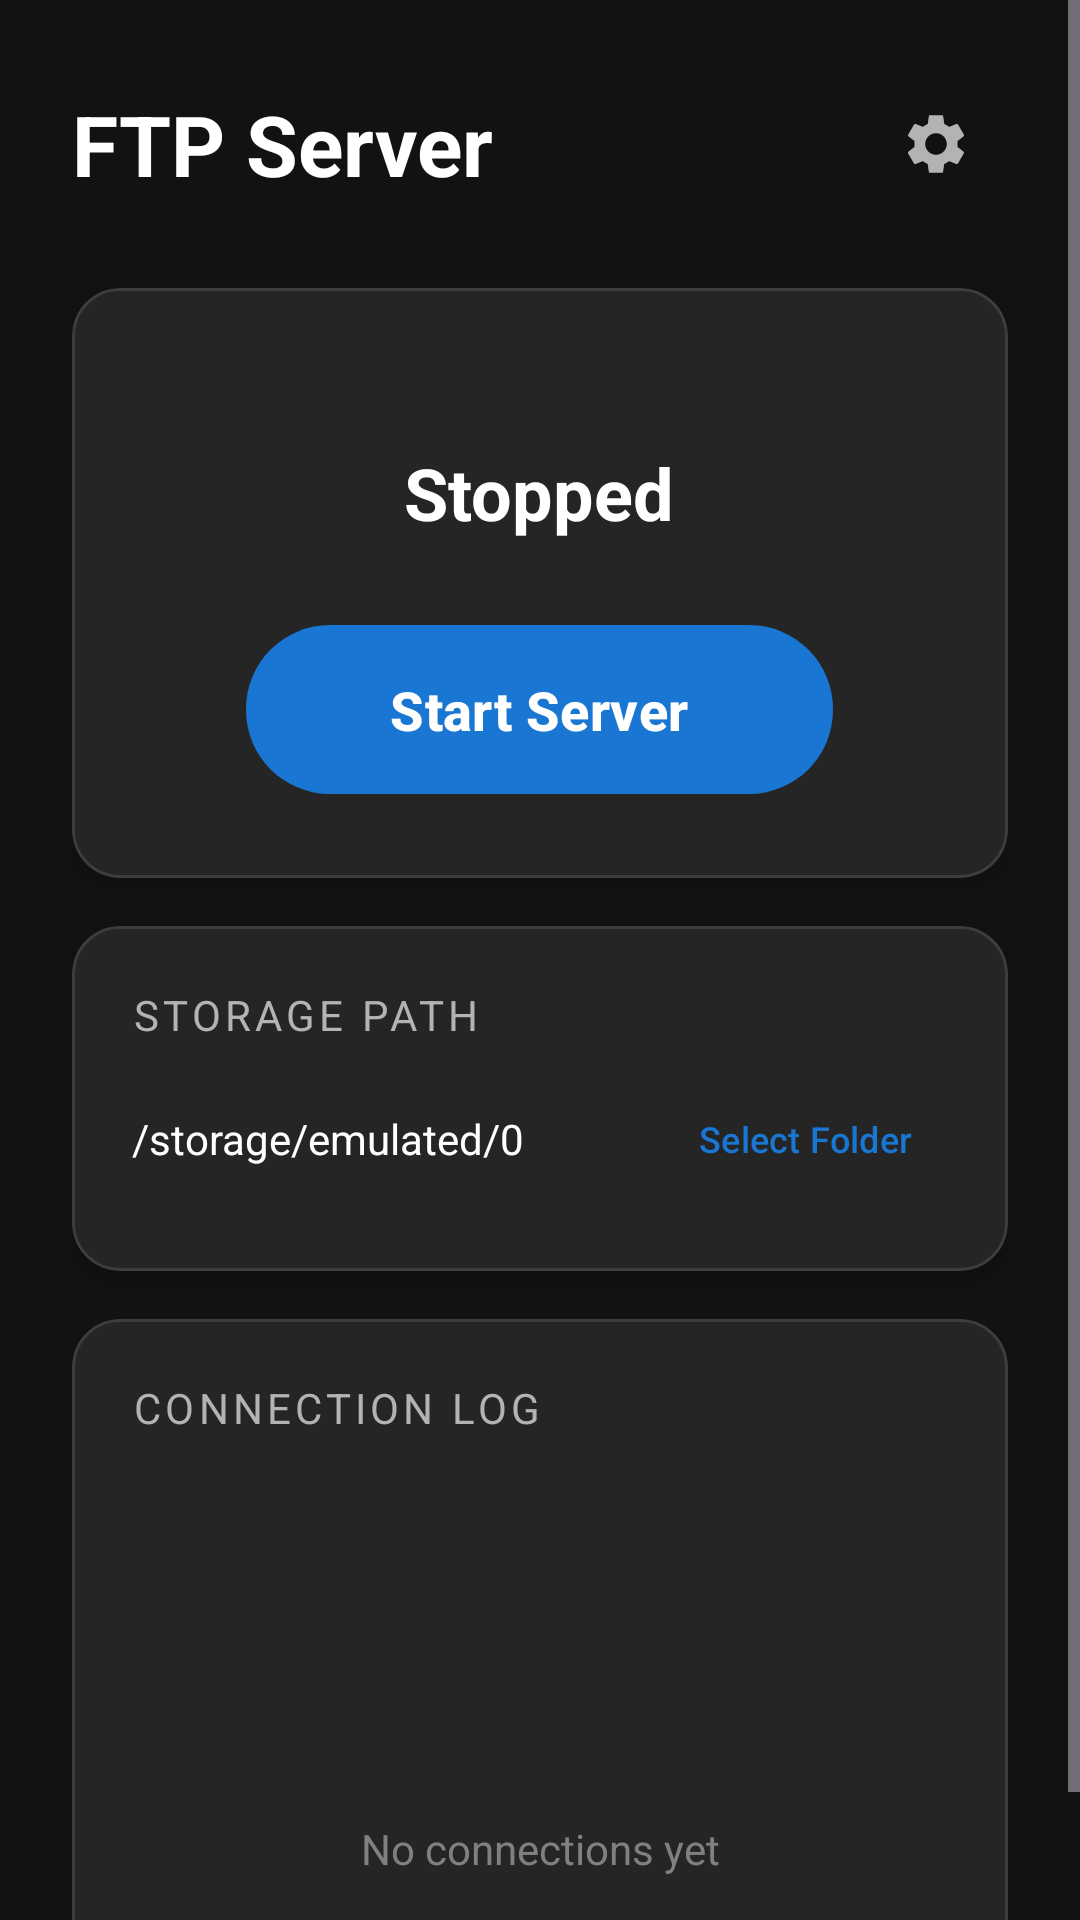

Named icons in this screenshot (1080px×1920px) and their centers, [x,y]:
Settings: [936,144]
